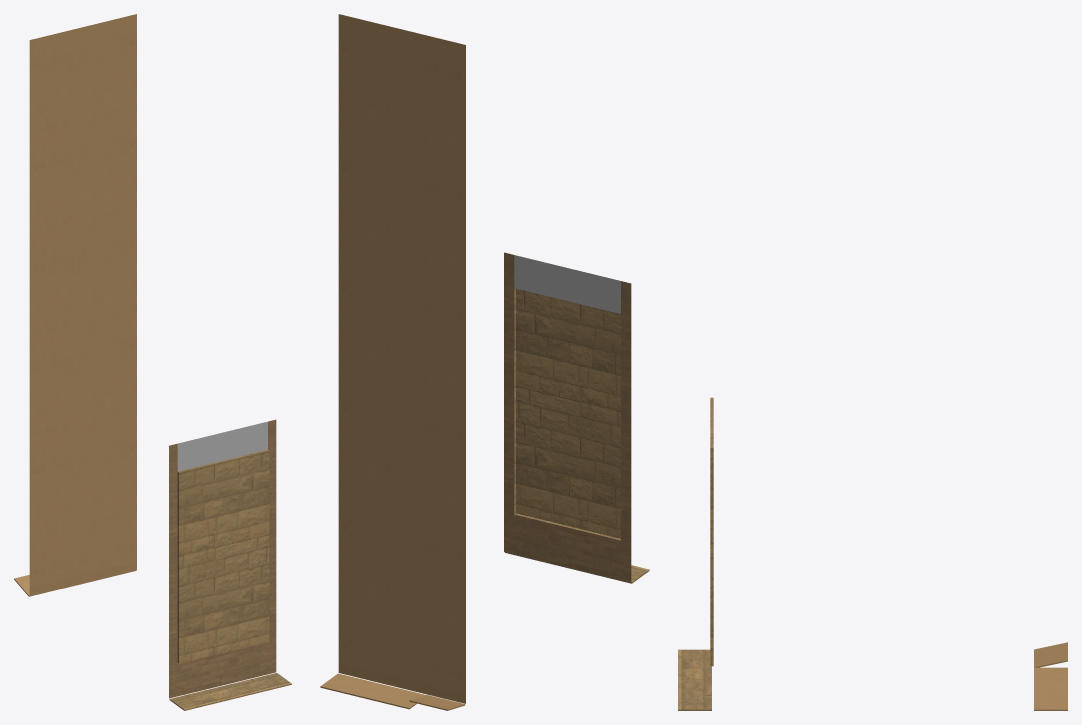
File: unit-link-west-upper.glb
3 views of the same model, side by side, from view 1: azimuth 30°, elevation 25°; view 2: azimuth 150°, elevation 25°; view 3: azimuth 270°, elevation 25° (orthographic). The views are drawn at different scales.
Parts seen in each view (by area): view 1: bz06_cream_plaster-cast, bz06_dressed_sandstone-cast, bz06_service_stone-cast, ph_bz04_stone_trim_sandstone-cast; view 2: bz06_cream_plaster-cast, bz06_dressed_sandstone-cast, bz06_service_stone-cast, ph_bz04_stone_trim_sandstone-cast; view 3: bz06_dressed_sandstone-cast, bz06_cream_plaster-cast.
Part boxes in pixels (box(x1,y1,x2,y2)): bz06_cream_plaster-cast: box(14, 14, 136, 596); bz06_dressed_sandstone-cast: box(169, 449, 291, 710); bz06_service_stone-cast: box(169, 419, 276, 698); ph_bz04_stone_trim_sandstone-cast: box(177, 421, 267, 471); bz06_cream_plaster-cast: box(320, 14, 465, 710); bz06_dressed_sandstone-cast: box(505, 288, 649, 583); bz06_service_stone-cast: box(504, 252, 631, 582); ph_bz04_stone_trim_sandstone-cast: box(514, 255, 620, 313); bz06_dressed_sandstone-cast: box(678, 397, 713, 710); bz06_cream_plaster-cast: box(1034, 642, 1067, 710).
Bounding box in the file's own units: 2 × 9.92 × 5.5.
4 materials, 3 textured.
